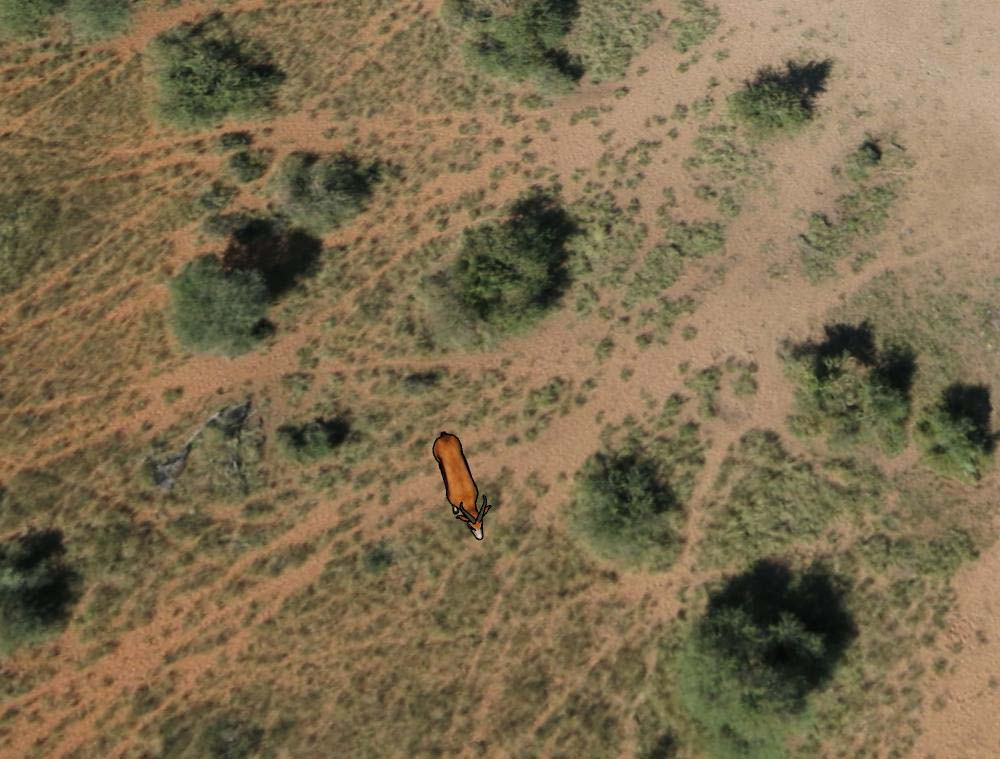springbok: (427, 429, 496, 544)
